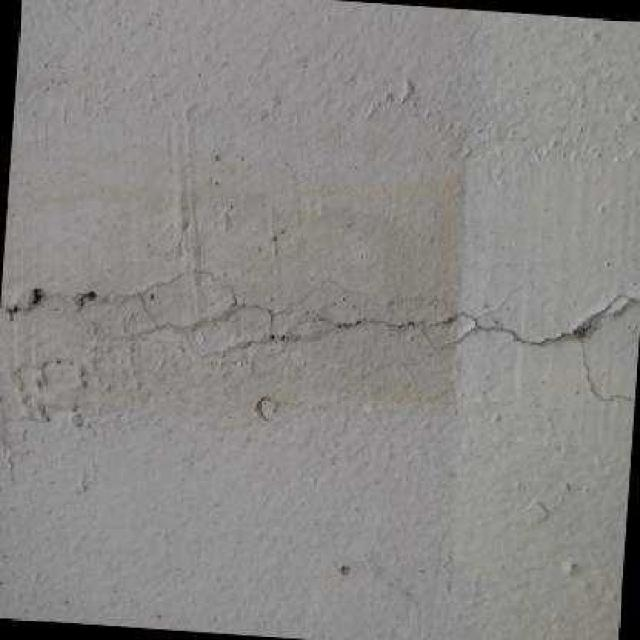D00: (136, 284, 640, 406)
